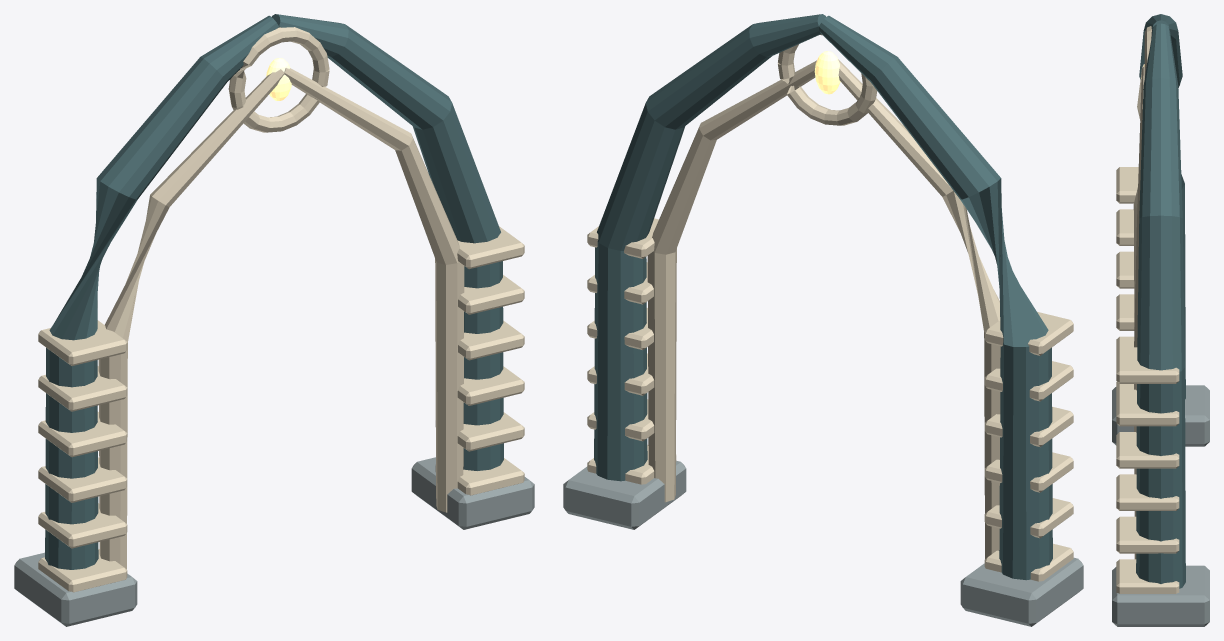
File: arch.glb
3 views of the same model, side by side, from view 1: azimuth 30°, elevation 25°; view 2: azimuth 150°, elevation 25°; view 3: azimuth 270°, elevation 25° (orthographic). The views are drawn at different scales.
Parts seen in each view (by area): view 1: arch_warm, arch_petrol, arch_worn; view 2: arch_petrol, arch_warm, arch_worn, arch_sick; view 3: arch_petrol, arch_warm, arch_worn.
Boxes of the visible parts, x1,y1,x2,y2 form: arch_warm: (38,27,524,592); arch_petrol: (45,14,503,569); arch_worn: (14,457,534,626); arch_petrol: (594,14,1052,580); arch_warm: (587,34,1073,581); arch_worn: (563,460,1083,626); arch_sick: (814,51,840,94); arch_petrol: (1136,14,1185,588); arch_warm: (1116,26,1179,593); arch_worn: (1112,385,1209,626).
Size of the model in its own units: 4.67 by 5.07 by 0.9.
